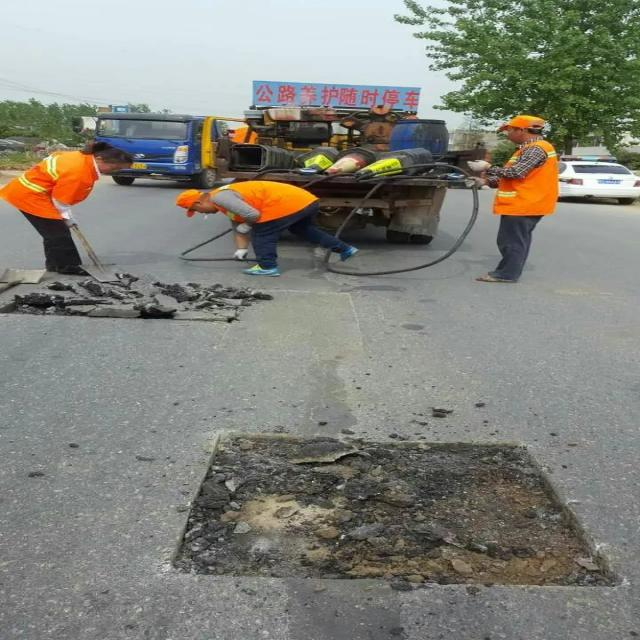Pothole: (165, 426, 628, 598), (19, 280, 255, 328)
